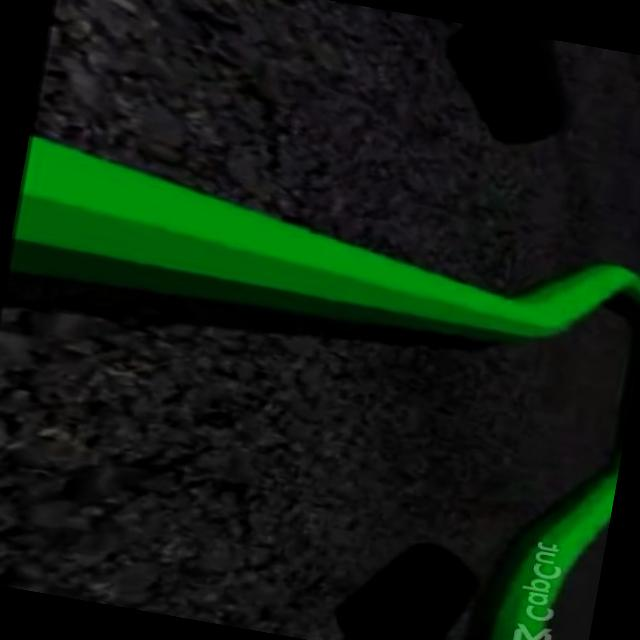gas: (10, 138, 634, 380)
